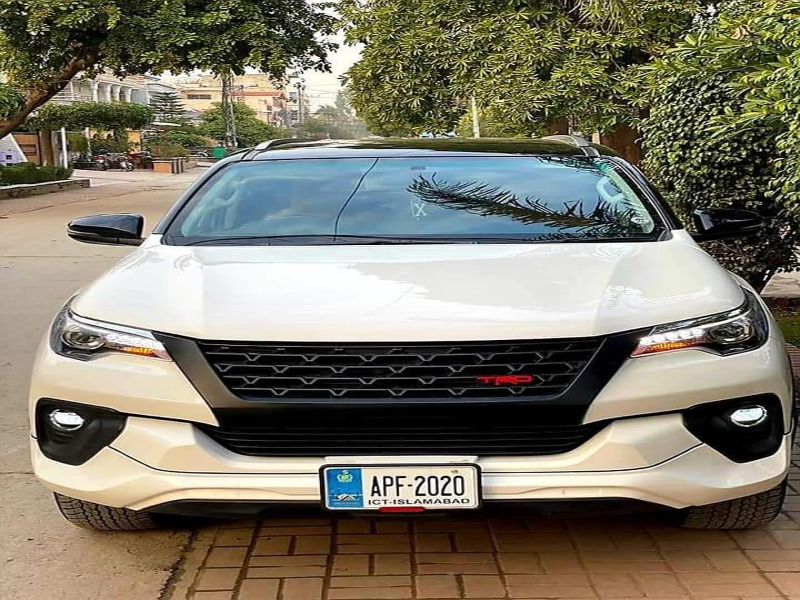License Plate: (316, 460, 487, 518)
